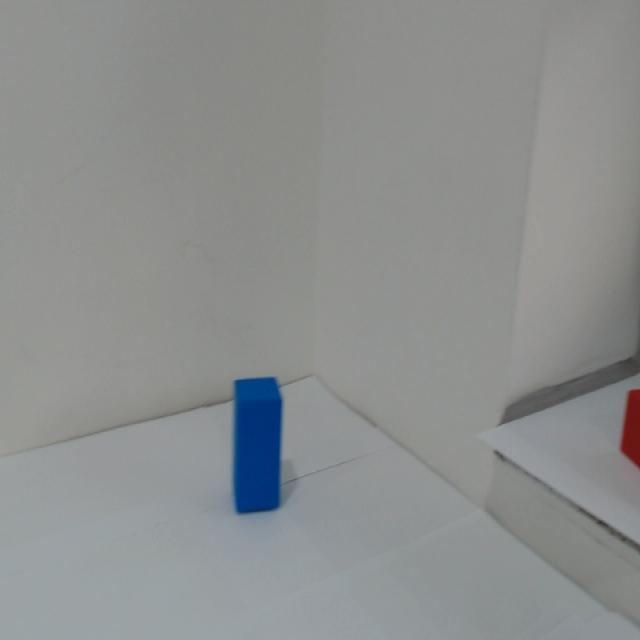cube: (220, 364, 288, 514)
